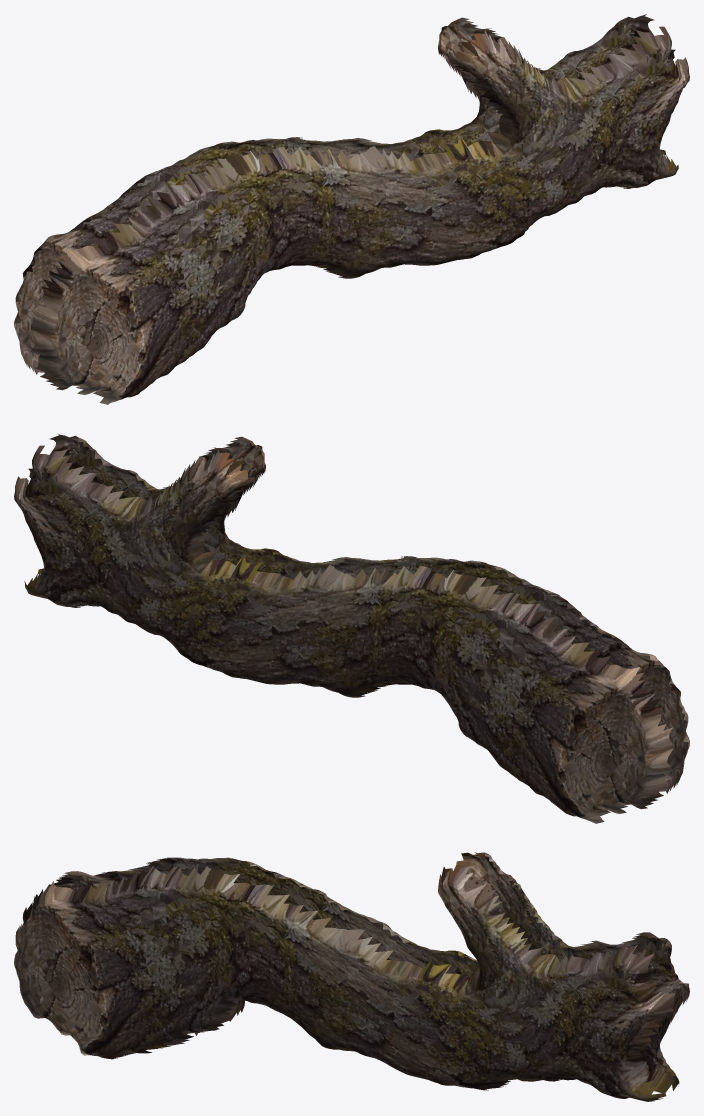
File: v4-marsh-path-scatter-fallen-branch.glb
3 renders of one model, top to bottom at view 1: azimuth 30°, elevation 25°; view 2: azimuth 150°, elevation 25°; view 3: azimuth 330°, elevation 25°, orthographic.
Visible parts, largest first — view 1: v4-marsh-path-scatter-fallen-branch; view 2: v4-marsh-path-scatter-fallen-branch; view 3: v4-marsh-path-scatter-fallen-branch.
Boxes of the visible parts, x1,y1,x2,y2 form: v4-marsh-path-scatter-fallen-branch: [14, 14, 689, 404]; v4-marsh-path-scatter-fallen-branch: [14, 433, 689, 823]; v4-marsh-path-scatter-fallen-branch: [14, 852, 689, 1101].
Size of the model in its own units: 0.8358 by 0.3394 by 0.084.
Materials: 1 (1 with a texture image).
